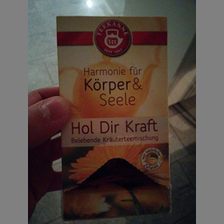tea: (56, 15, 172, 222)
